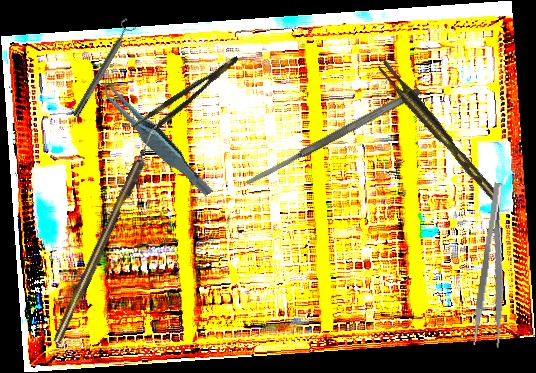Dressing Forceps: (470, 181, 520, 349)
Fixation Ring: (67, 16, 139, 121)
Hook Surgical: (51, 128, 160, 345)
Spatula Surgical: (243, 85, 423, 188)
Tissue Forceps: (376, 56, 500, 207), (98, 63, 215, 214), (130, 54, 246, 140)
